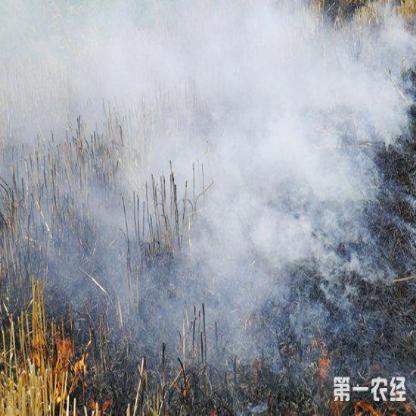fire: (22, 315, 89, 394), (340, 375, 414, 413), (310, 335, 332, 385), (87, 386, 114, 411), (180, 384, 188, 399)
smoke: (257, 24, 349, 214), (184, 146, 314, 268), (321, 36, 398, 134), (163, 25, 241, 91)
